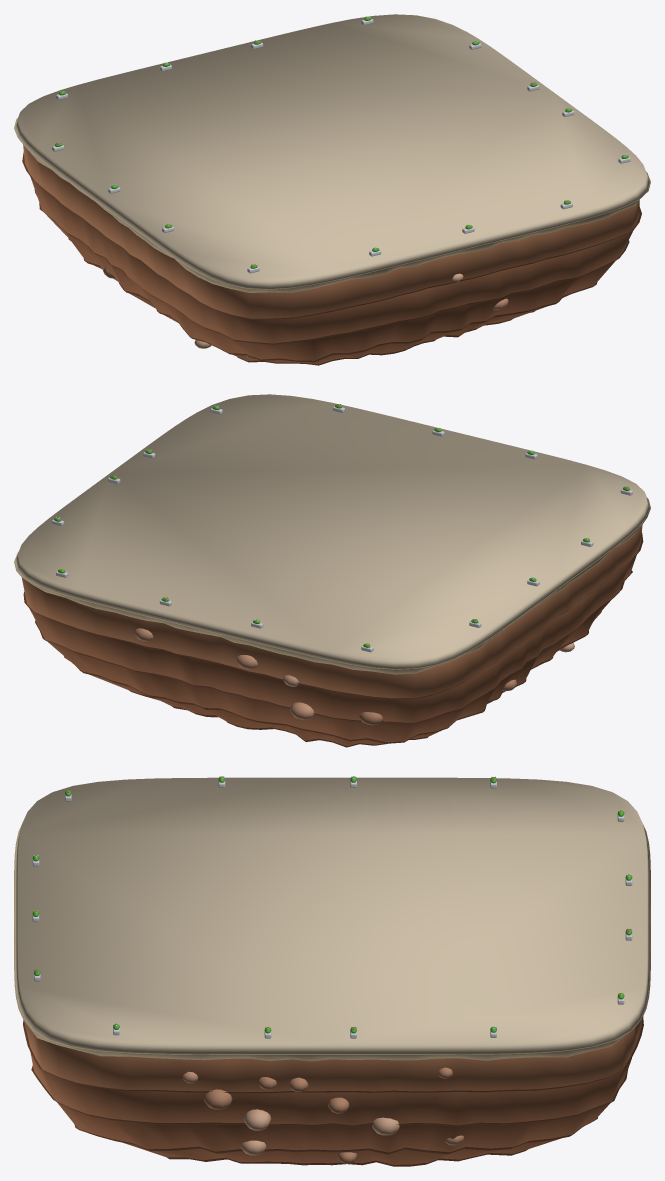
File: island.glb
3 views of the same model, one above another, from view 1: azimuth 30°, elevation 25°; view 2: azimuth 150°, elevation 25°; view 3: azimuth 270°, elevation 25° (orthographic). The views are drawn at different scales.
Parts seen in each view (by area): view 1: top; view 2: top; view 3: top.
Boxes of the visible parts, left/top/right/bottom form: top: left=14, top=14, right=650, bottom=365; top: left=14, top=394, right=650, bottom=747; top: left=14, top=776, right=650, bottom=1166.
Size of the model in its own units: 9.57 by 3.72 by 9.56.
